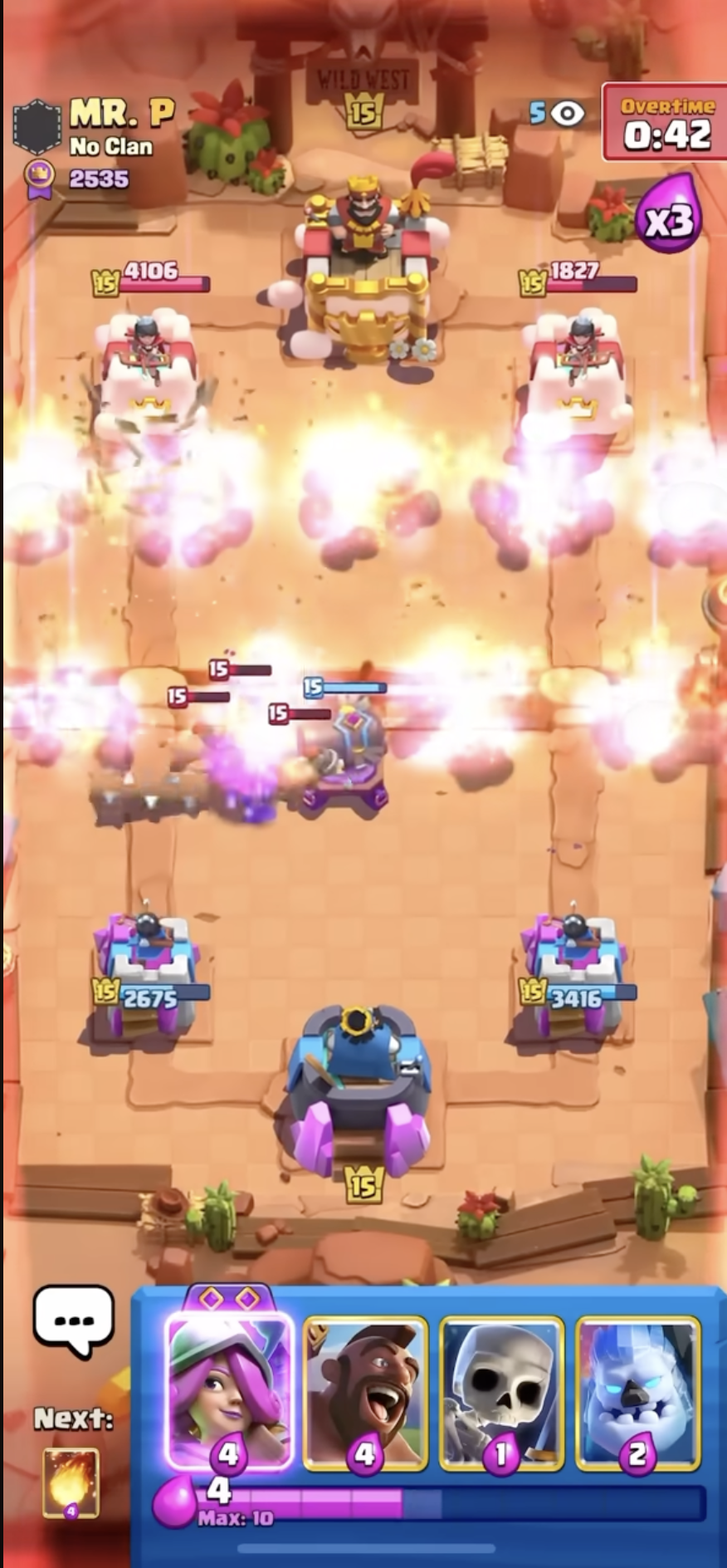evo_cannon: (285, 664, 395, 828)
